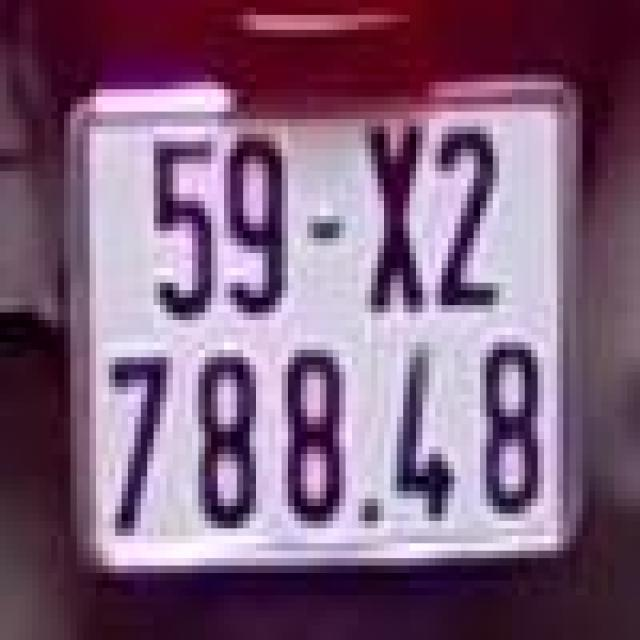2: (432, 116, 515, 316)
4: (378, 342, 460, 528)
5: (137, 134, 220, 335)
7: (109, 346, 179, 547)
8: (272, 335, 355, 528), (188, 346, 266, 540), (474, 338, 550, 524)
9: (218, 126, 300, 328)
X: (362, 115, 432, 324)
